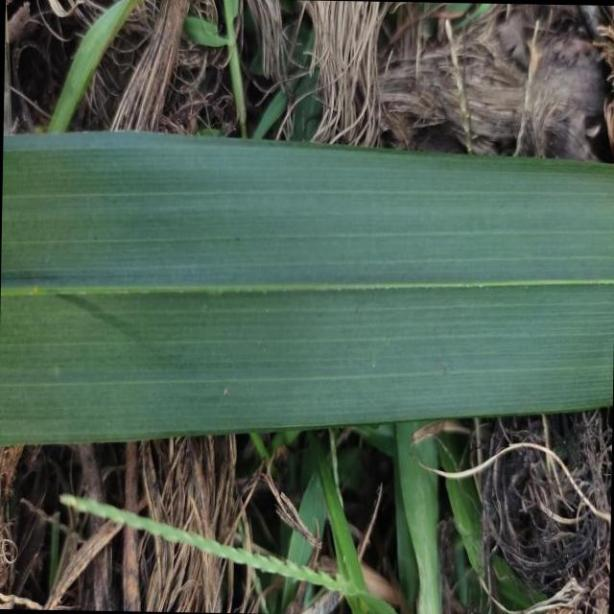Healthy: (1, 133, 614, 443)
